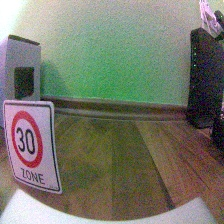dreisiger_zone: (2, 99, 64, 196)
